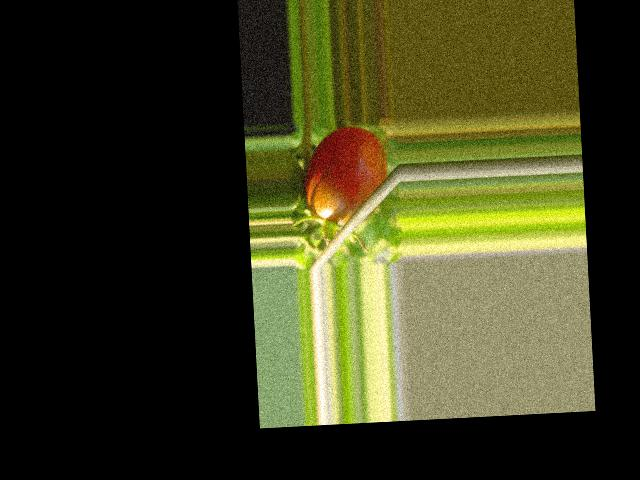tomato: (303, 125, 389, 227)
